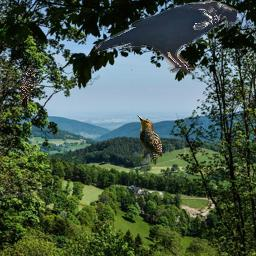Crow: (94, 0, 239, 75)
Woodpecker: (137, 115, 162, 165), (20, 67, 38, 110)
